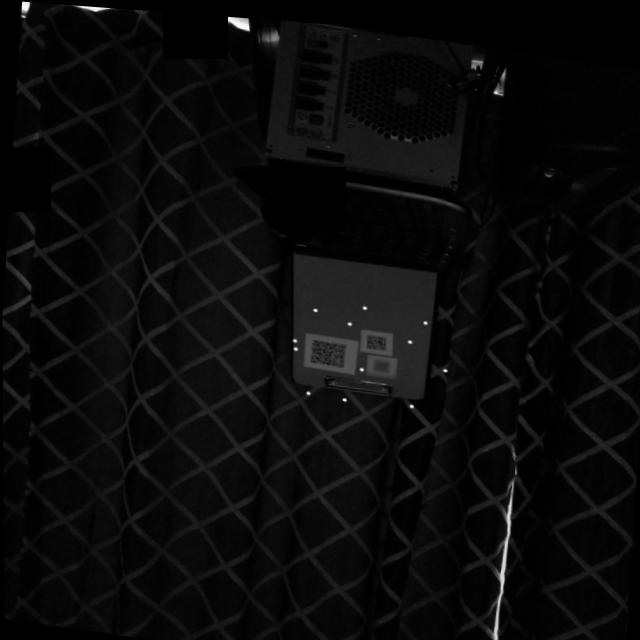QR_CODE: (302, 329, 351, 368), (358, 321, 393, 350), (366, 348, 397, 373)
